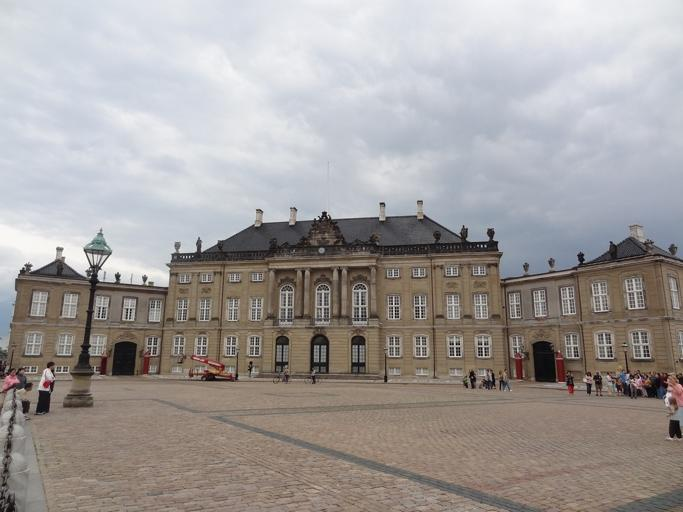non-vehicle: (272, 370, 289, 383), (304, 375, 321, 383)
